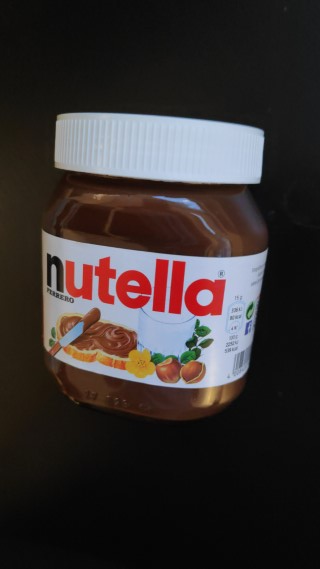nutella: (37, 109, 270, 427)
